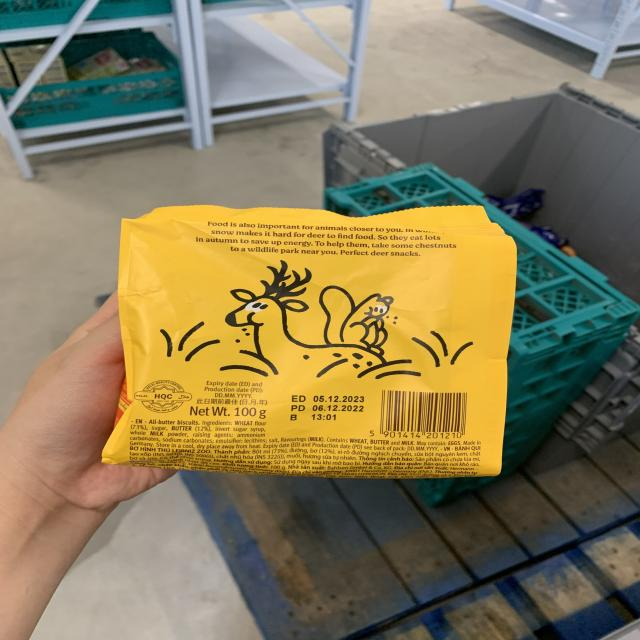object_name: (125, 216, 491, 479)
